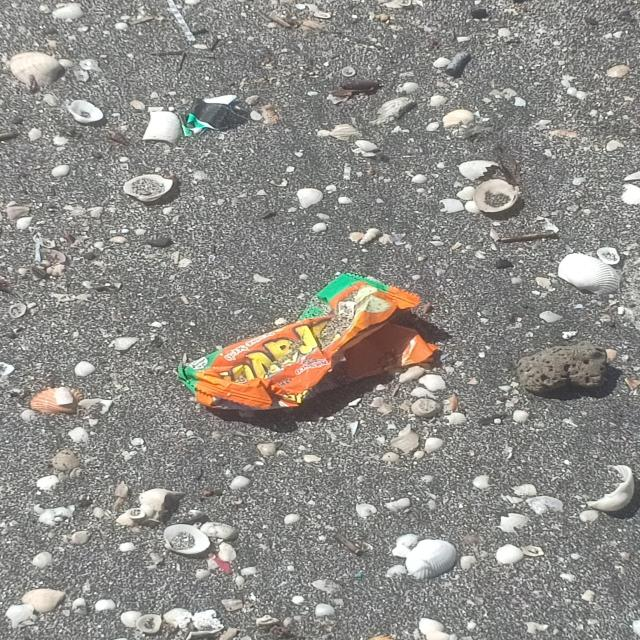plastic_waste: (174, 276, 440, 417)
